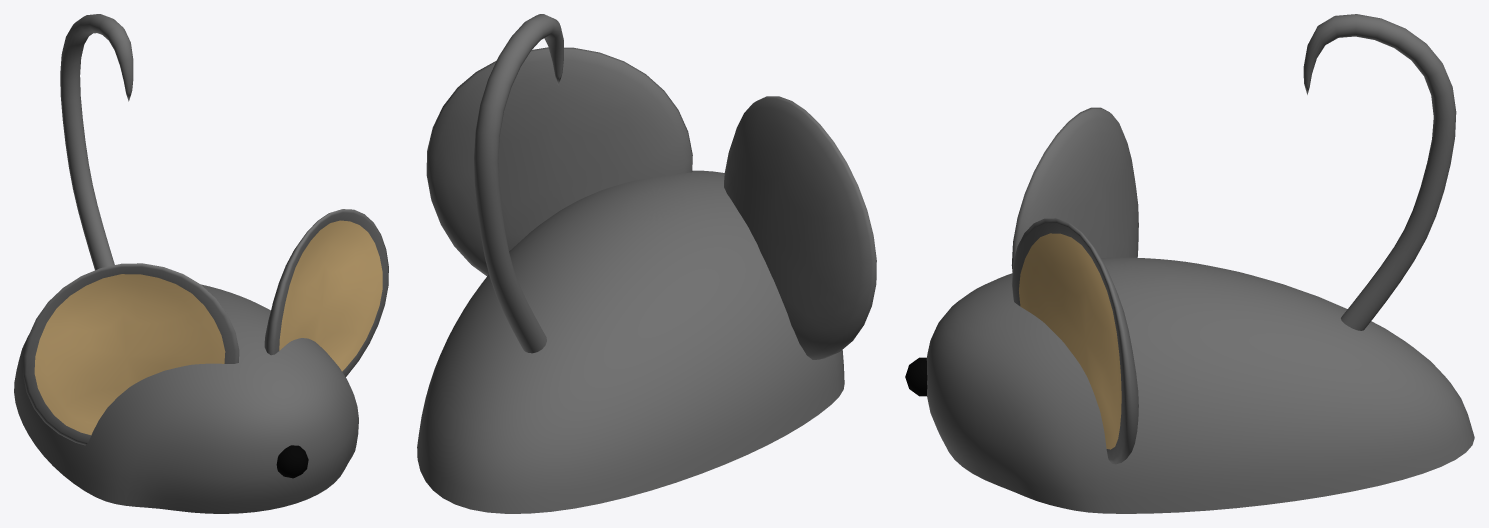
The model's file is mouse.fbx.
3 views of the same model, side by side, from view 1: azimuth 30°, elevation 25°; view 2: azimuth 150°, elevation 25°; view 3: azimuth 270°, elevation 25° (orthographic). The views are drawn at different scales.
Visible parts, largest first — view 1: Circle; view 2: Circle; view 3: Circle.
Part boxes in pixels (x1=…): Circle: x1=14, y1=14, x2=388, y2=513; Circle: x1=417, y1=14, x2=876, y2=513; Circle: x1=905, y1=14, x2=1474, y2=513.
Size of the model in its own units: 53.47 by 50.36 by 61.52.
